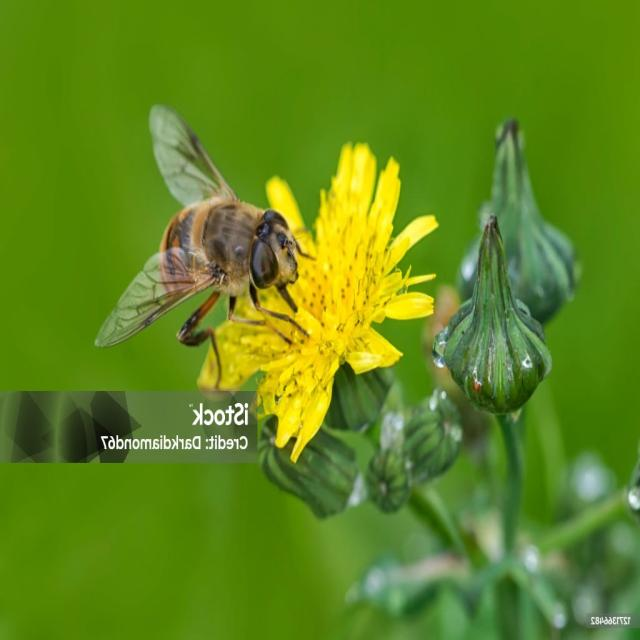hoverfly: (94, 100, 316, 386)
